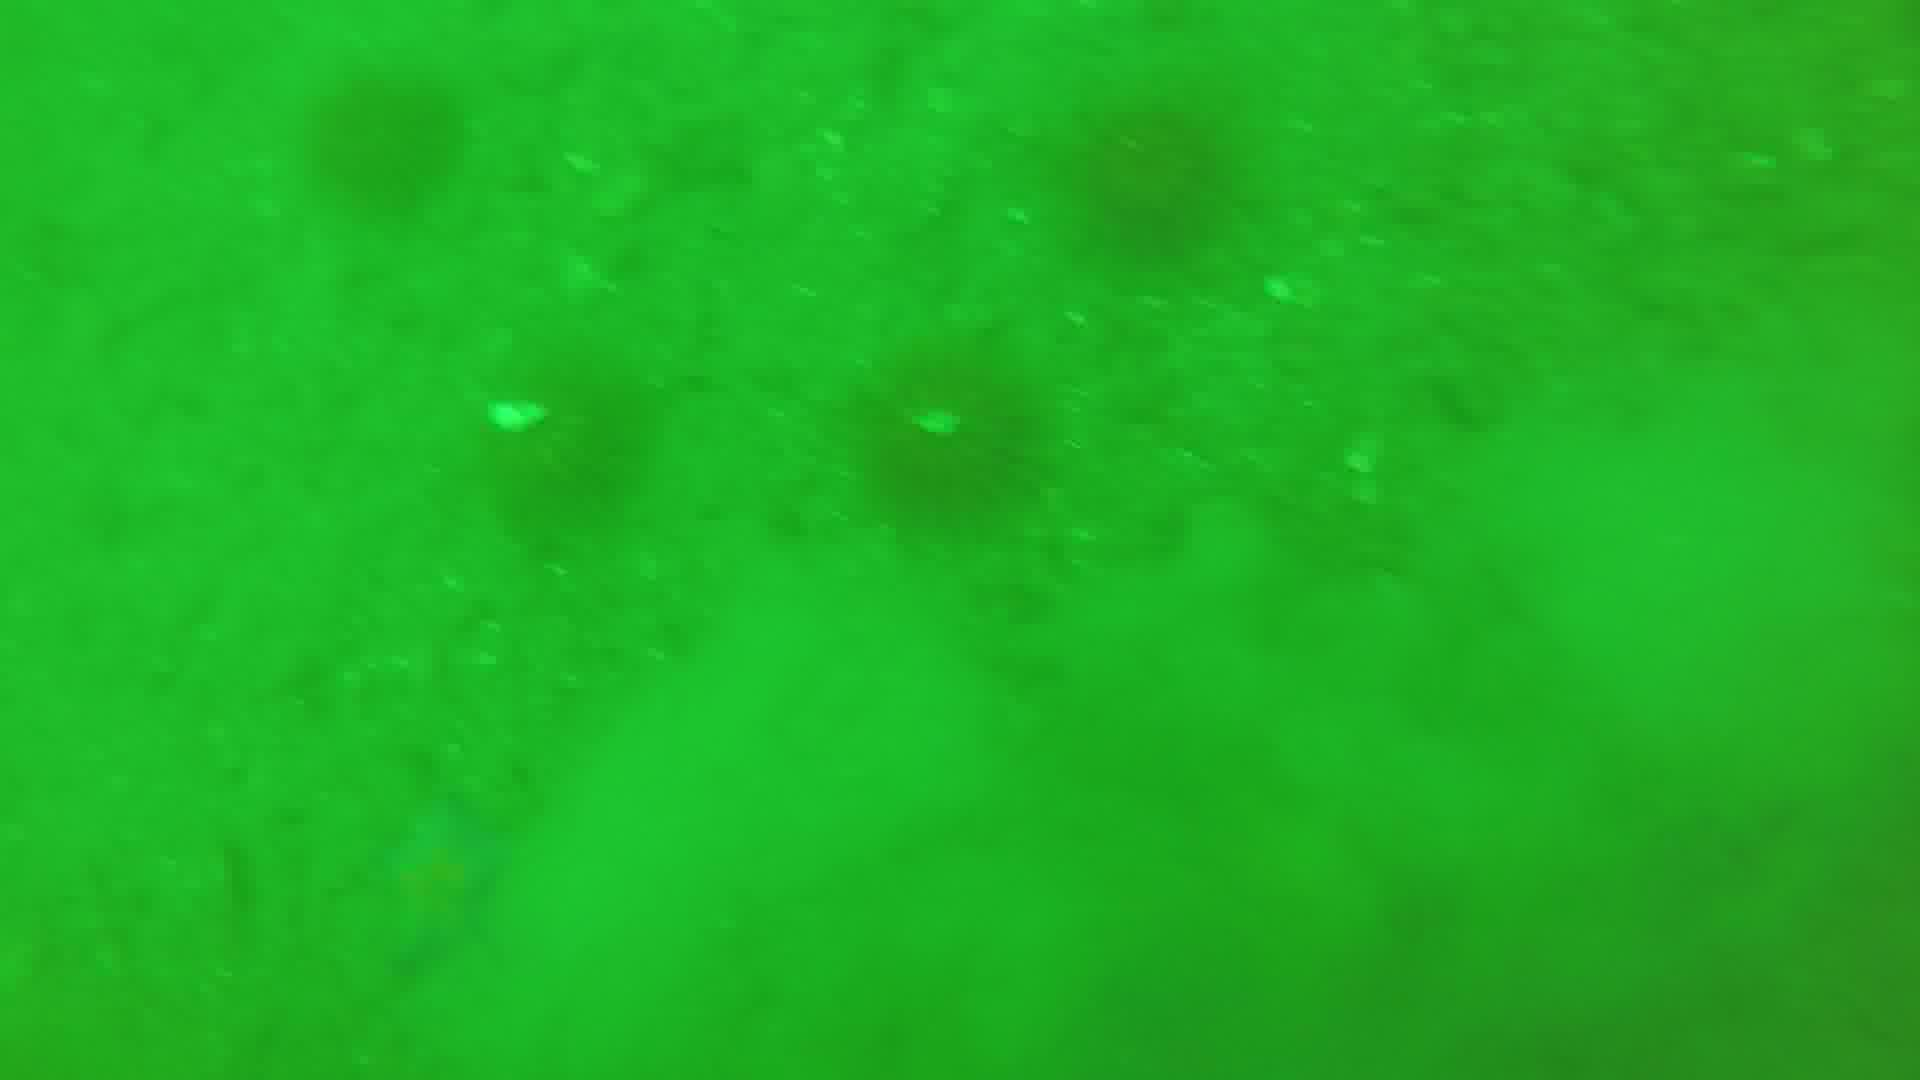echinus: (824, 359, 1055, 531), (305, 73, 465, 218), (1073, 112, 1224, 251)
starfish: (381, 806, 524, 963)
